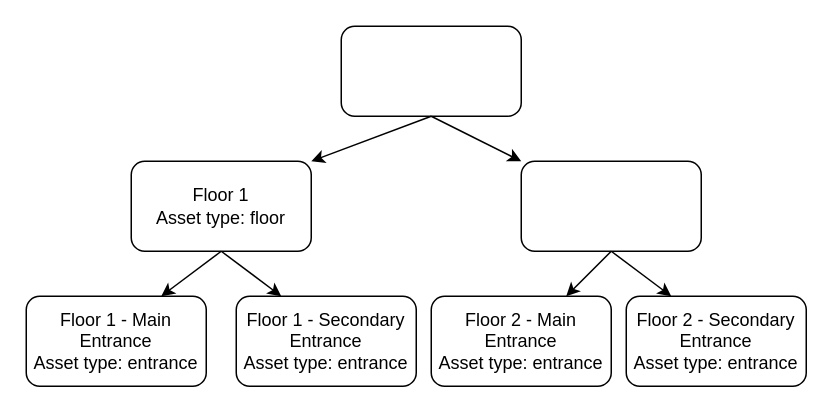
The diagram is 833 pixels wide and 413 high, and some of its shapes have lost their labels. Each missing label, with the box of its shape:
Floor 2 Asset type: floor: (520, 160, 701, 251)
HQ Asset type: building: (340, 25, 521, 116)
